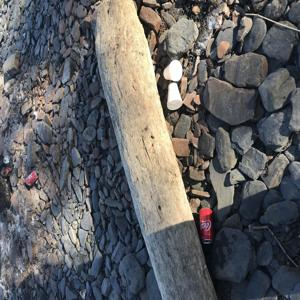cardboard: (161, 59, 188, 85), (165, 82, 184, 113)
metal: (197, 203, 216, 249), (23, 169, 42, 189)
